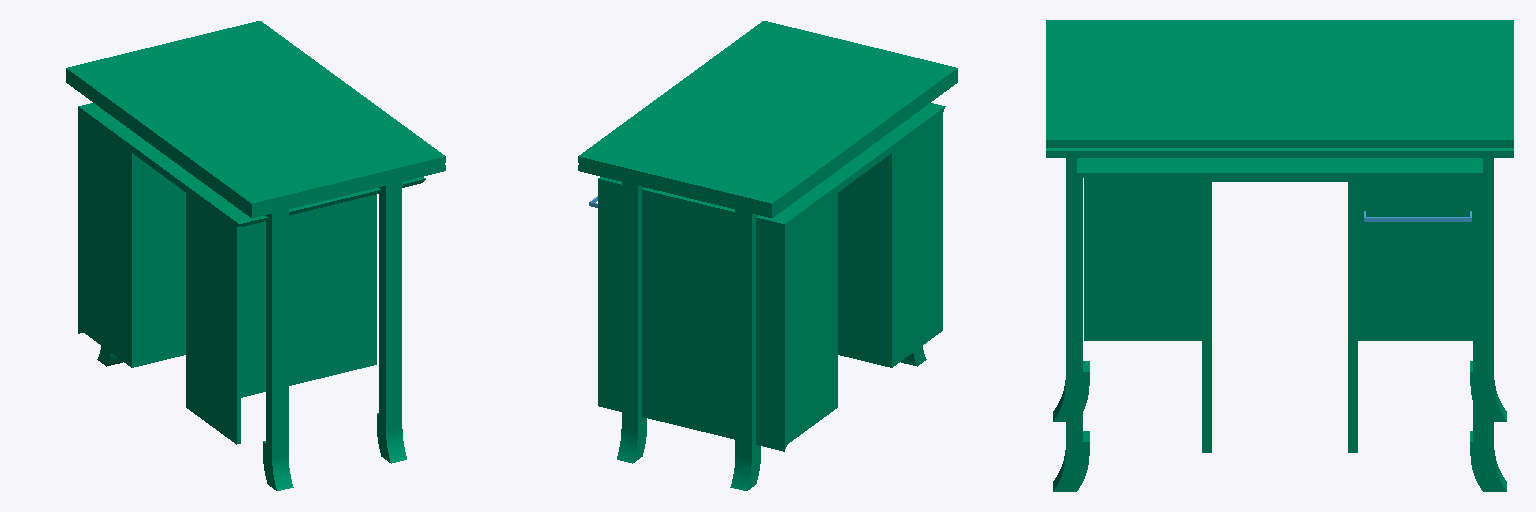
robot.urdf — partnet_185cf76909e948f0fa80fb391ee7ccee:
<robot name="partnet_185cf76909e948f0fa80fb391ee7ccee">
	<link name="base" />
	<link name="link_0">
		<visual name="frame-15">
			<origin xyz="0 0 0" />
			<geometry>
				<mesh filename="textured_objs/new-1.obj" />
			</geometry>
		</visual>
		<visual name="frame-15">
			<origin xyz="0 0 0" />
			<geometry>
				<mesh filename="textured_objs/new-0.obj" />
			</geometry>
		</visual>
		<visual name="frame-15">
			<origin xyz="0 0 0" />
			<geometry>
				<mesh filename="textured_objs/original-18.obj" />
			</geometry>
		</visual>
		<collision>
			<origin xyz="0 0 0" />
			<geometry>
				<mesh filename="textured_objs/new-1.obj" />
			</geometry>
		</collision>
		<collision>
			<origin xyz="0 0 0" />
			<geometry>
				<mesh filename="textured_objs/new-0.obj" />
			</geometry>
		</collision>
		<collision>
			<origin xyz="0 0 0" />
			<geometry>
				<mesh filename="textured_objs/original-18.obj" />
			</geometry>
		</collision>
	</link>
	<joint name="joint_0" type="fixed">
		<origin rpy="1.570796326794897 0 -1.570796326794897" xyz="0 0 0" />
		<child link="link_0" />
		<parent link="base" />
	</joint>
	<link name="link_1">
		<visual name="display_panel-11">
			<origin xyz="0.06294762892501815 0.1261545965752331 -0.6810209999999997" />
			<geometry>
				<mesh filename="textured_objs/new-3.obj" />
			</geometry>
		</visual>
		<visual name="shelf-16">
			<origin xyz="0.06294762892501815 0.1261545965752331 -0.6810209999999997" />
			<geometry>
				<mesh filename="textured_objs/original-3.obj" />
			</geometry>
		</visual>
		<visual name="shelf-17">
			<origin xyz="0.06294762892501815 0.1261545965752331 -0.6810209999999997" />
			<geometry>
				<mesh filename="textured_objs/original-4.obj" />
			</geometry>
		</visual>
		<visual name="other_leaf-19">
			<origin xyz="0.06294762892501815 0.1261545965752331 -0.6810209999999997" />
			<geometry>
				<mesh filename="textured_objs/original-12.obj" />
			</geometry>
		</visual>
		<visual name="other_leaf-19">
			<origin xyz="0.06294762892501815 0.1261545965752331 -0.6810209999999997" />
			<geometry>
				<mesh filename="textured_objs/original-9.obj" />
			</geometry>
		</visual>
		<visual name="other_leaf-19">
			<origin xyz="0.06294762892501815 0.1261545965752331 -0.6810209999999997" />
			<geometry>
				<mesh filename="textured_objs/original-7.obj" />
			</geometry>
		</visual>
		<visual name="other_leaf-19">
			<origin xyz="0.06294762892501815 0.1261545965752331 -0.6810209999999997" />
			<geometry>
				<mesh filename="textured_objs/original-5.obj" />
			</geometry>
		</visual>
		<visual name="other_leaf-19">
			<origin xyz="0.06294762892501815 0.1261545965752331 -0.6810209999999997" />
			<geometry>
				<mesh filename="textured_objs/original-14.obj" />
			</geometry>
		</visual>
		<visual name="other_leaf-19">
			<origin xyz="0.06294762892501815 0.1261545965752331 -0.6810209999999997" />
			<geometry>
				<mesh filename="textured_objs/original-11.obj" />
			</geometry>
		</visual>
		<visual name="other_leaf-19">
			<origin xyz="0.06294762892501815 0.1261545965752331 -0.6810209999999997" />
			<geometry>
				<mesh filename="textured_objs/original-10.obj" />
			</geometry>
		</visual>
		<visual name="other_leaf-19">
			<origin xyz="0.06294762892501815 0.1261545965752331 -0.6810209999999997" />
			<geometry>
				<mesh filename="textured_objs/original-8.obj" />
			</geometry>
		</visual>
		<visual name="other_leaf-19">
			<origin xyz="0.06294762892501815 0.1261545965752331 -0.6810209999999997" />
			<geometry>
				<mesh filename="textured_objs/original-6.obj" />
			</geometry>
		</visual>
		<visual name="other_leaf-19">
			<origin xyz="0.06294762892501815 0.1261545965752331 -0.6810209999999997" />
			<geometry>
				<mesh filename="textured_objs/original-13.obj" />
			</geometry>
		</visual>
		<visual name="handle-12">
			<origin xyz="0.06294762892501815 0.1261545965752331 -0.6810209999999997" />
			<geometry>
				<mesh filename="textured_objs/new-2.obj" />
			</geometry>
		</visual>
		<visual name="glass-13">
			<origin xyz="0.06294762892501815 0.1261545965752331 -0.6810209999999997" />
			<geometry>
				<mesh filename="textured_objs/new-4.obj" />
			</geometry>
		</visual>
		<visual name="door_frame-20">
			<origin xyz="0.06294762892501815 0.1261545965752331 -0.6810209999999997" />
			<geometry>
				<mesh filename="textured_objs/new-5.obj" />
			</geometry>
		</visual>
		<collision>
			<origin xyz="0.06294762892501815 0.1261545965752331 -0.6810209999999997" />
			<geometry>
				<mesh filename="textured_objs/new-3.obj" />
			</geometry>
		</collision>
		<collision>
			<origin xyz="0.06294762892501815 0.1261545965752331 -0.6810209999999997" />
			<geometry>
				<mesh filename="textured_objs/original-3.obj" />
			</geometry>
		</collision>
		<collision>
			<origin xyz="0.06294762892501815 0.1261545965752331 -0.6810209999999997" />
			<geometry>
				<mesh filename="textured_objs/original-4.obj" />
			</geometry>
		</collision>
		<collision>
			<origin xyz="0.06294762892501815 0.1261545965752331 -0.6810209999999997" />
			<geometry>
				<mesh filename="textured_objs/original-12.obj" />
			</geometry>
		</collision>
		<collision>
			<origin xyz="0.06294762892501815 0.1261545965752331 -0.6810209999999997" />
			<geometry>
				<mesh filename="textured_objs/original-9.obj" />
			</geometry>
		</collision>
		<collision>
			<origin xyz="0.06294762892501815 0.1261545965752331 -0.6810209999999997" />
			<geometry>
				<mesh filename="textured_objs/original-7.obj" />
			</geometry>
		</collision>
		<collision>
			<origin xyz="0.06294762892501815 0.1261545965752331 -0.6810209999999997" />
			<geometry>
				<mesh filename="textured_objs/original-5.obj" />
			</geometry>
		</collision>
		<collision>
			<origin xyz="0.06294762892501815 0.1261545965752331 -0.6810209999999997" />
			<geometry>
				<mesh filename="textured_objs/original-14.obj" />
			</geometry>
		</collision>
		<collision>
			<origin xyz="0.06294762892501815 0.1261545965752331 -0.6810209999999997" />
			<geometry>
				<mesh filename="textured_objs/original-11.obj" />
			</geometry>
		</collision>
		<collision>
			<origin xyz="0.06294762892501815 0.1261545965752331 -0.6810209999999997" />
			<geometry>
				<mesh filename="textured_objs/original-10.obj" />
			</geometry>
		</collision>
		<collision>
			<origin xyz="0.06294762892501815 0.1261545965752331 -0.6810209999999997" />
			<geometry>
				<mesh filename="textured_objs/original-8.obj" />
			</geometry>
		</collision>
		<collision>
			<origin xyz="0.06294762892501815 0.1261545965752331 -0.6810209999999997" />
			<geometry>
				<mesh filename="textured_objs/original-6.obj" />
			</geometry>
		</collision>
		<collision>
			<origin xyz="0.06294762892501815 0.1261545965752331 -0.6810209999999997" />
			<geometry>
				<mesh filename="textured_objs/original-13.obj" />
			</geometry>
		</collision>
		<collision>
			<origin xyz="0.06294762892501815 0.1261545965752331 -0.6810209999999997" />
			<geometry>
				<mesh filename="textured_objs/new-2.obj" />
			</geometry>
		</collision>
		<collision>
			<origin xyz="0.06294762892501815 0.1261545965752331 -0.6810209999999997" />
			<geometry>
				<mesh filename="textured_objs/new-4.obj" />
			</geometry>
		</collision>
		<collision>
			<origin xyz="0.06294762892501815 0.1261545965752331 -0.6810209999999997" />
			<geometry>
				<mesh filename="textured_objs/new-5.obj" />
			</geometry>
		</collision>
	</link>
	<joint name="joint_1" type="prismatic">
		<origin xyz="-0.06294762892501815 -0.1261545965752331 0.6810209999999997" />
		<axis xyz="0 0 0.9999999999999999" />
		<child link="link_1" />
		<parent link="link_0" />
		<limit effort="0.0" lower="-0.5760000000000001" upper="0.1359999999999999" velocity="0.0" />
	</joint>
</robot>

--- Render facts (derived) ---
3 views of the same robot in one strip: view 1: azimuth 30°, elevation 25°; view 2: azimuth 150°, elevation 25°; view 3: azimuth 270°, elevation 25° (orthographic).
Robot: partnet_185cf76909e948f0fa80fb391ee7ccee — 3 links, 2 joints (1 prismatic, 1 fixed); root link base; default pose: all joints at 0.
Visible links, largest first — view 1: link_1; view 2: link_1; view 3: link_1, link_0.
Link boxes in pixels (<box>): link_1: <box>66,21,445,490</box>; link_1: <box>578,21,957,490</box>; link_1: <box>1046,20,1513,491</box>; link_0: <box>1364,211,1471,221</box>.
Size in the robot's own frame: 0.844 by 1.36 by 1.2 metres.
13 mesh visuals loaded from 19 distinct referenced files (13 OBJ); not drawn: 6 (reference not matched to a file when rendering).